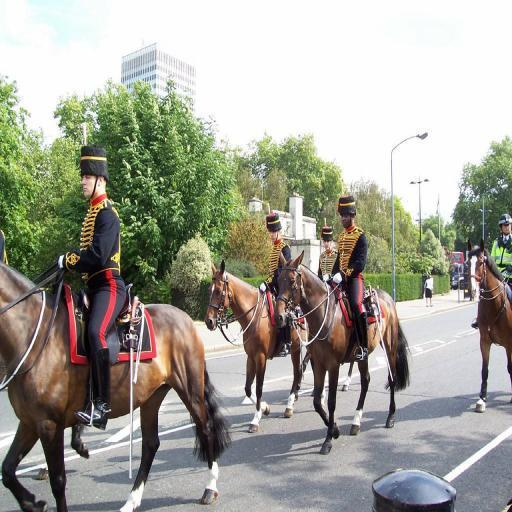horse: (0, 260, 234, 512), (272, 252, 412, 452), (204, 260, 310, 433), (466, 236, 512, 412)
